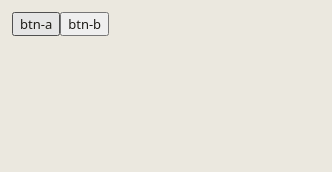
Test case: W.08.04 Tooltip › Tooltip Esc/pointerdown 隐藏后 300ms 内仍进入暖场，且子组件未透传 ref 在开发模式抛错
The image size is (332, 172).
Later steps or results of the test are not shown.
Hover over the button "btn-a" at [36, 24], box [12,12,60,36]
Wait 400 ms
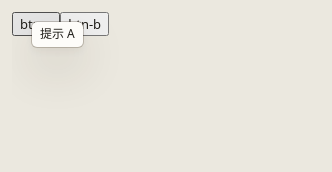
Now the number of tooltips is 1, box [32,22,83,47]
Press Escape in the button "btn-a", box [12,12,60,36]
Wait 150 ms
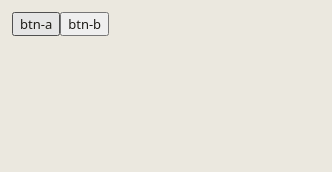
Now no tooltips are shown
